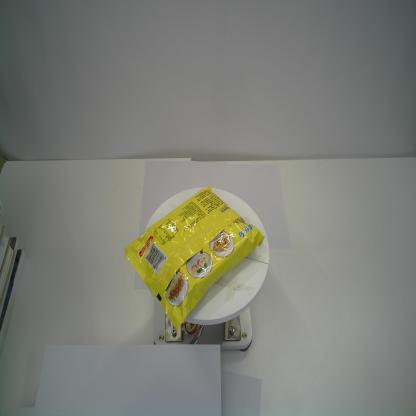Instant Noodles: (124, 186, 265, 332)
